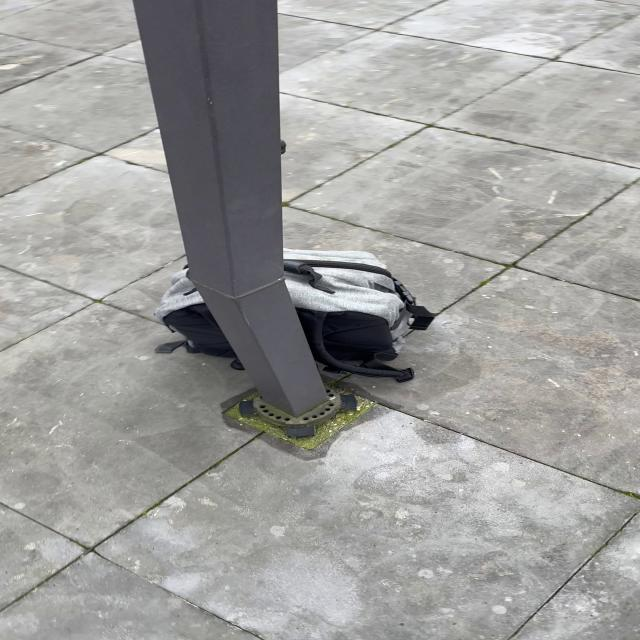backpack: (150, 247, 436, 383)
